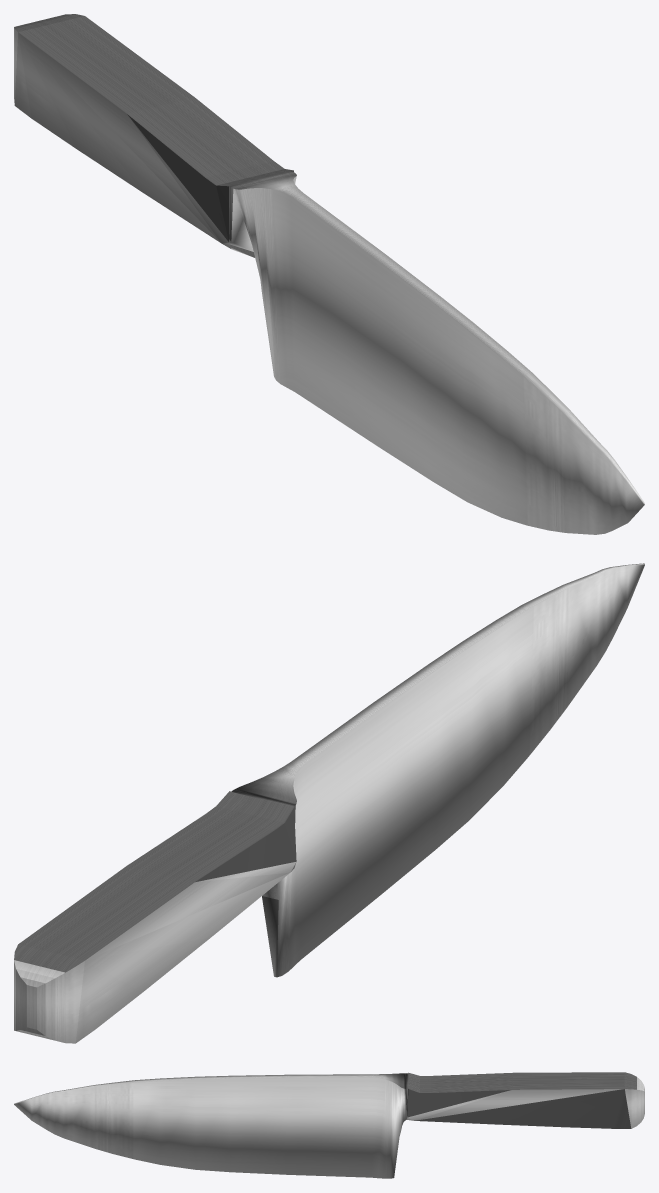
Rendered from Knife.obj.
The picture shows the model from 3 angles, top to bottom: view 1: azimuth 30°, elevation 25°; view 2: azimuth 150°, elevation 25°; view 3: azimuth 270°, elevation 25°; orthographic projection. The views are drawn at different scales.
Parts seen in each view (by area): view 1: 立方体.001; view 2: 立方体.001; view 3: 立方体.001.
Boxes of the visible parts, x1,y1,x2,y2 form: 立方体.001: [14, 14, 644, 534]; 立方体.001: [14, 563, 644, 1043]; 立方体.001: [14, 1072, 644, 1178].
Size of the model in its own units: 0.9322 by 2.57 by 14.38.
Materials: 2 (2 with a texture image).
